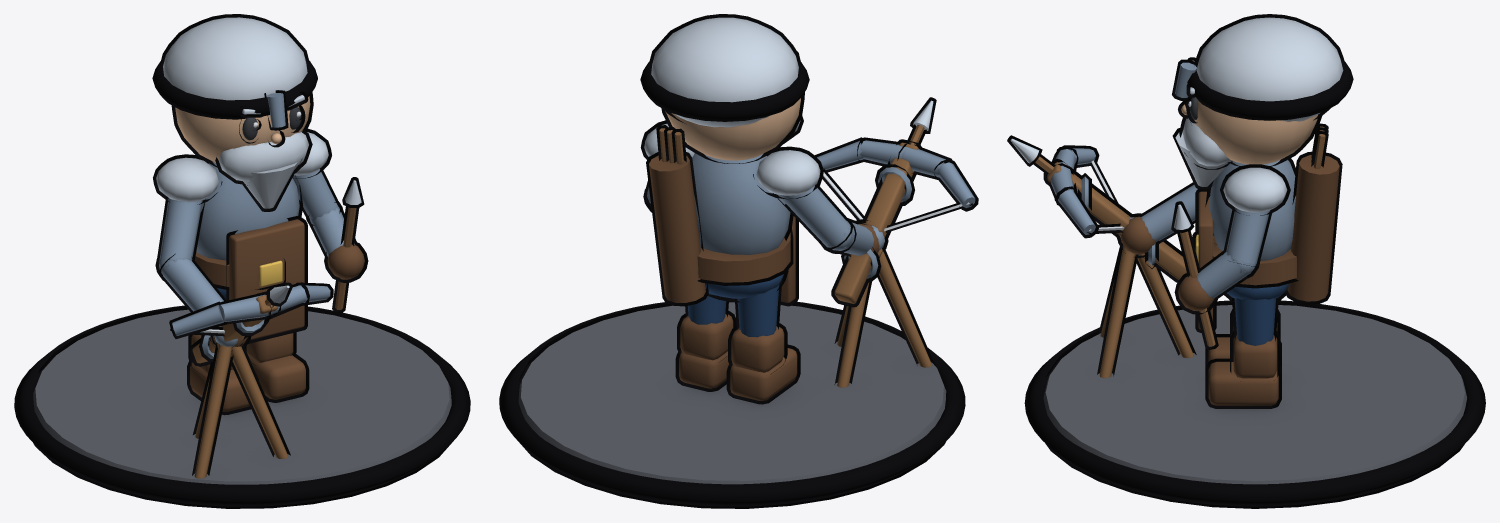
File: ballista.fbx
3 renders of one model, left to right at view 1: azimuth 30°, elevation 25°; view 2: azimuth 150°, elevation 25°; view 3: azimuth 270°, elevation 25°, orthographic. The views are drawn at different scales.
Visible parts, largest first — view 1: ballista; view 2: ballista; view 3: ballista.
Boxes of the visible parts, <box> form: ballista: <box>14,14,470,508</box>; ballista: <box>499,14,978,508</box>; ballista: <box>1007,14,1485,508</box>.
Size of the model in its own units: 1.58 by 1.48 by 1.64.
Materials: 2 (1 with a texture image).
